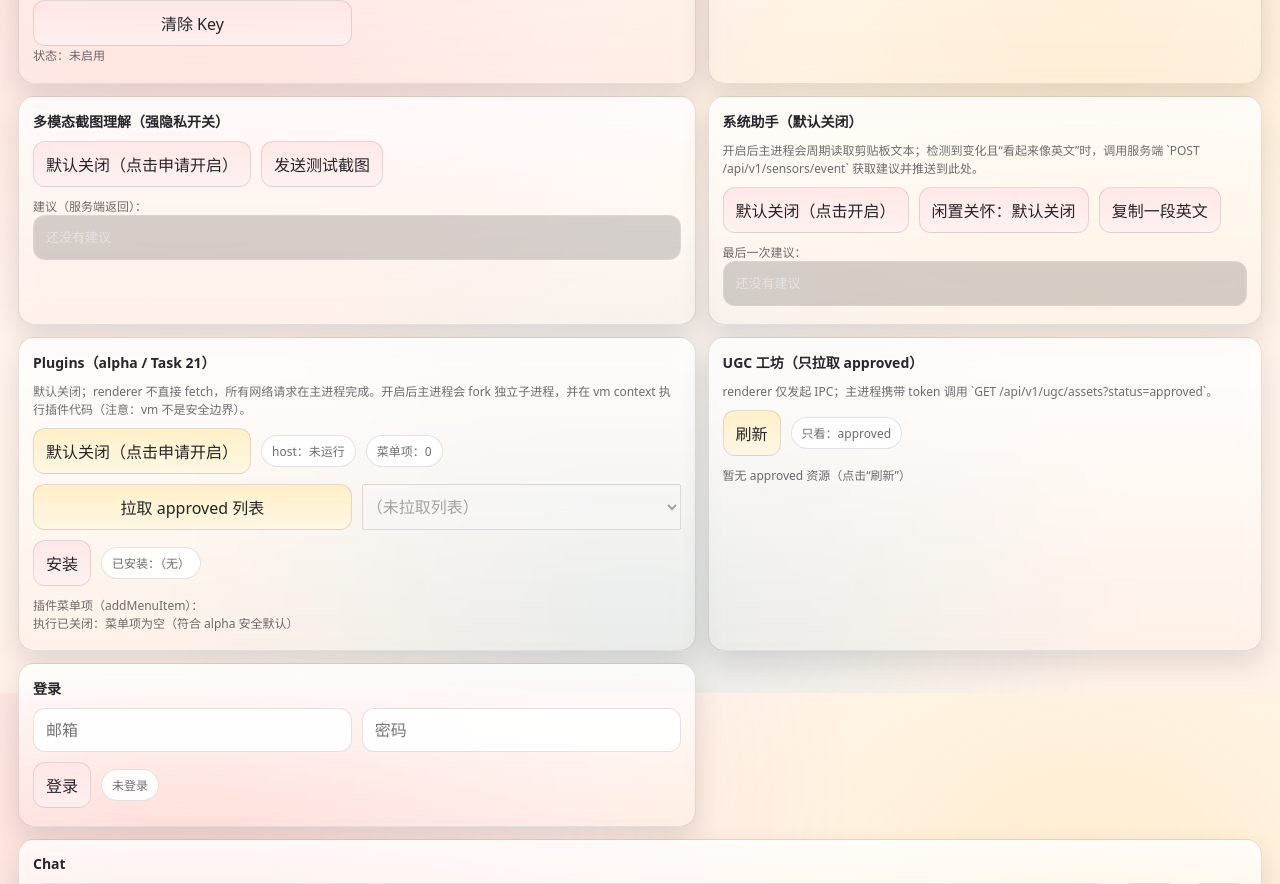
Test: Plugins consent › requires explicit consent before enabling plugin execution
(page scrolled)
Click the button with test id "plugins-toggle".
click(142, 451)  # box x1=33 y1=428 x2=251 y2=474
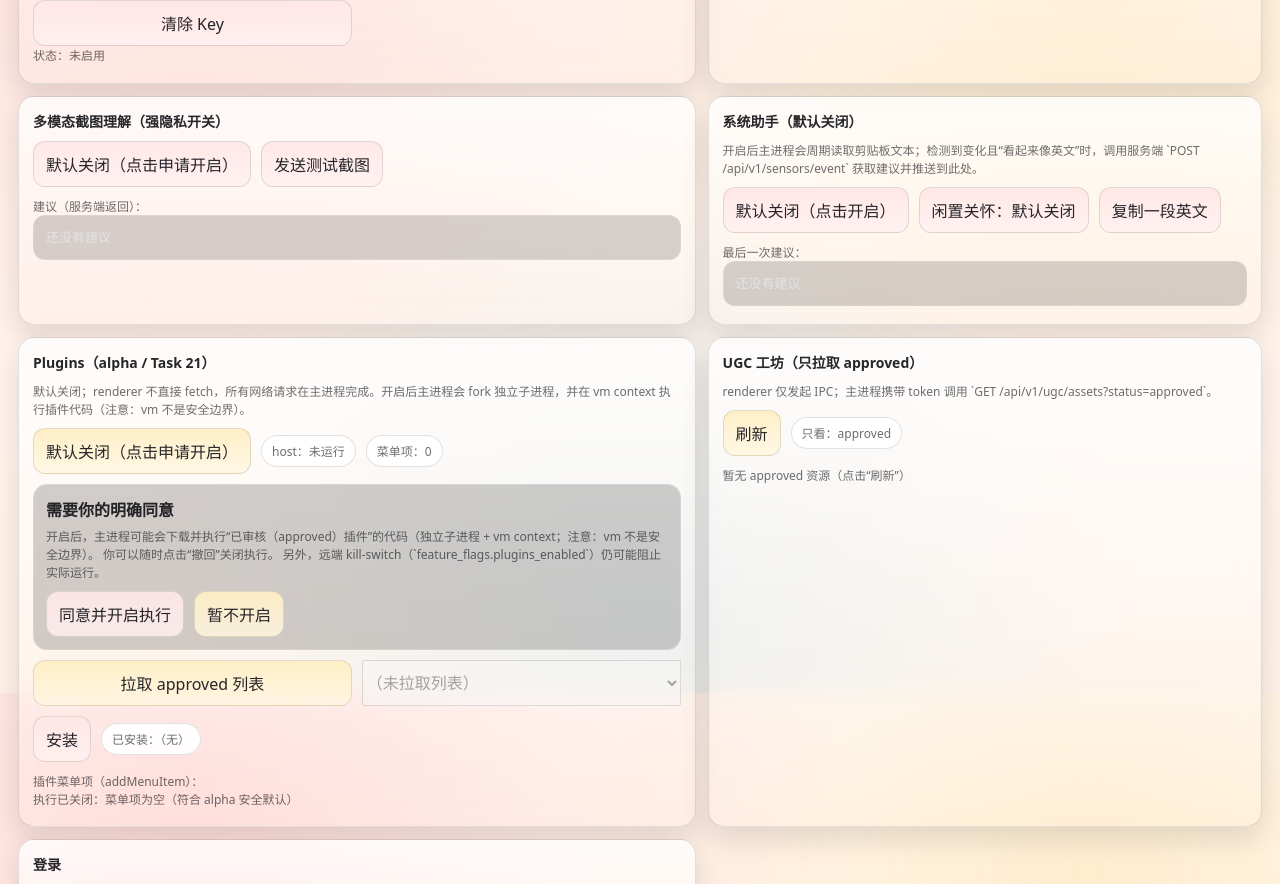
Expected: the element with test id "plugins-consent-panel" is shown, x1=33 y1=484 x2=681 y2=650
Click the button with test id "plugins-consent-decline".
click(239, 614)  # box x1=194 y1=591 x2=284 y2=637
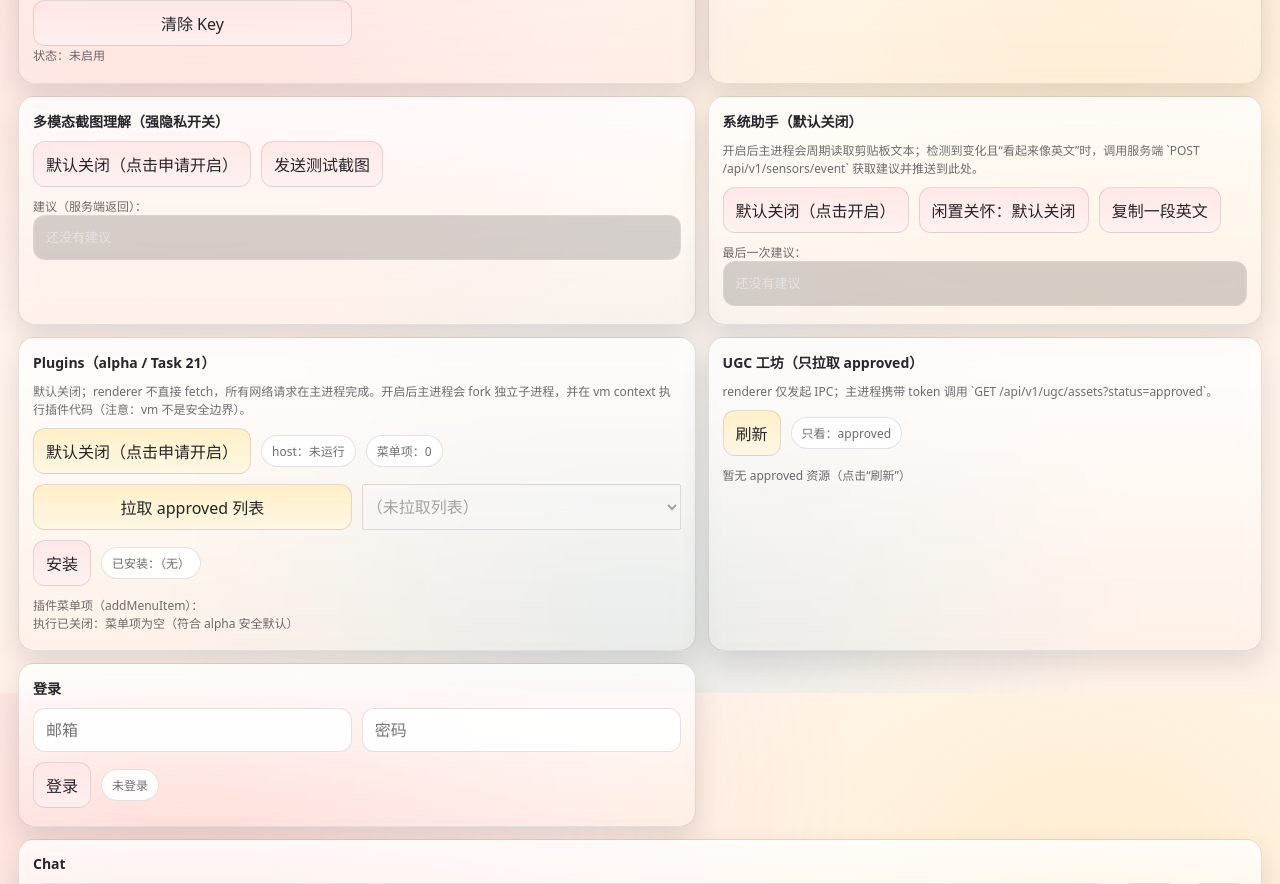
Expected: the element with test id "plugins-consent-panel" is gone
Click the button with test id "plugins-toggle".
click(142, 451)  # box x1=33 y1=428 x2=251 y2=474
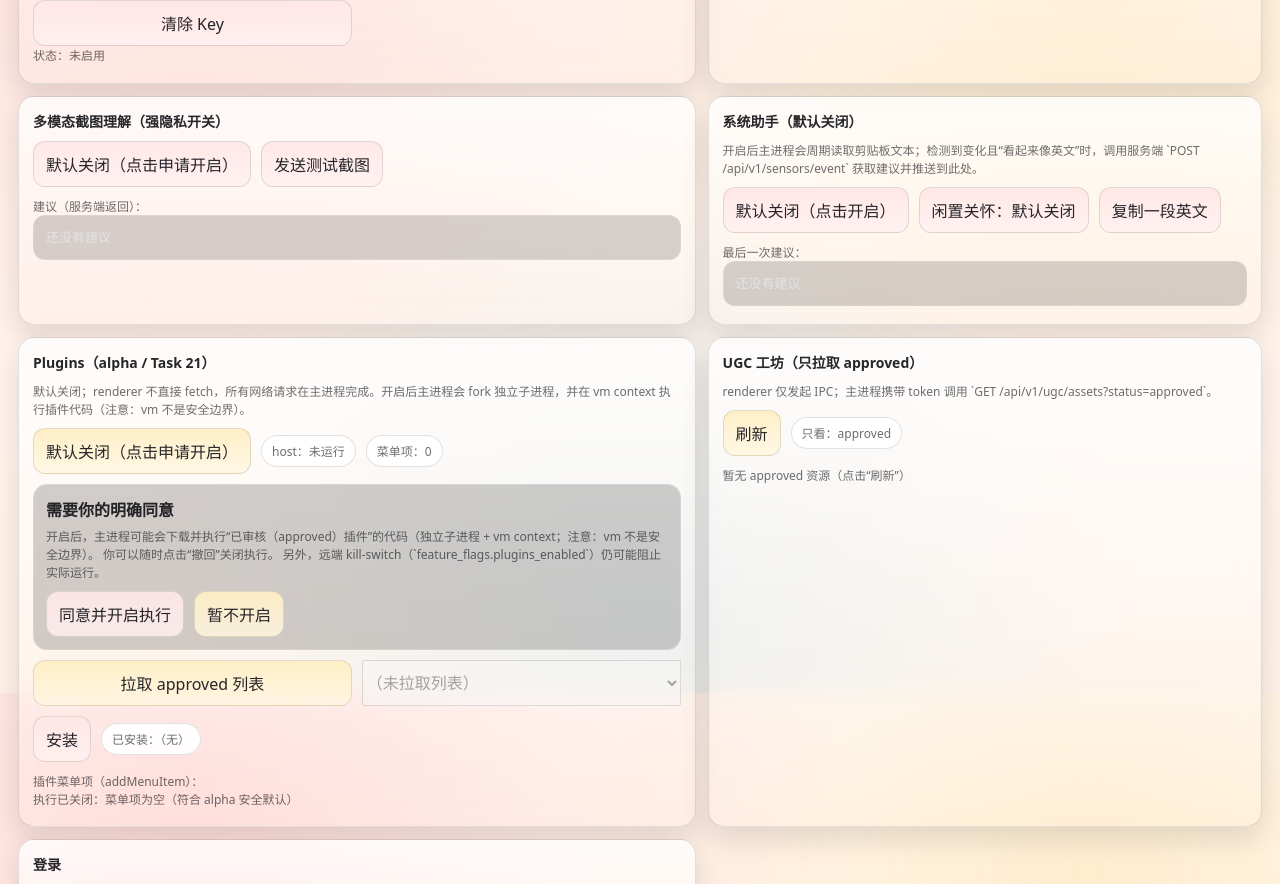
Expected: the element with test id "plugins-consent-panel" is shown, x1=33 y1=484 x2=681 y2=650
Click the button with test id "plugins-consent-accept".
click(115, 614)  # box x1=46 y1=591 x2=184 y2=637
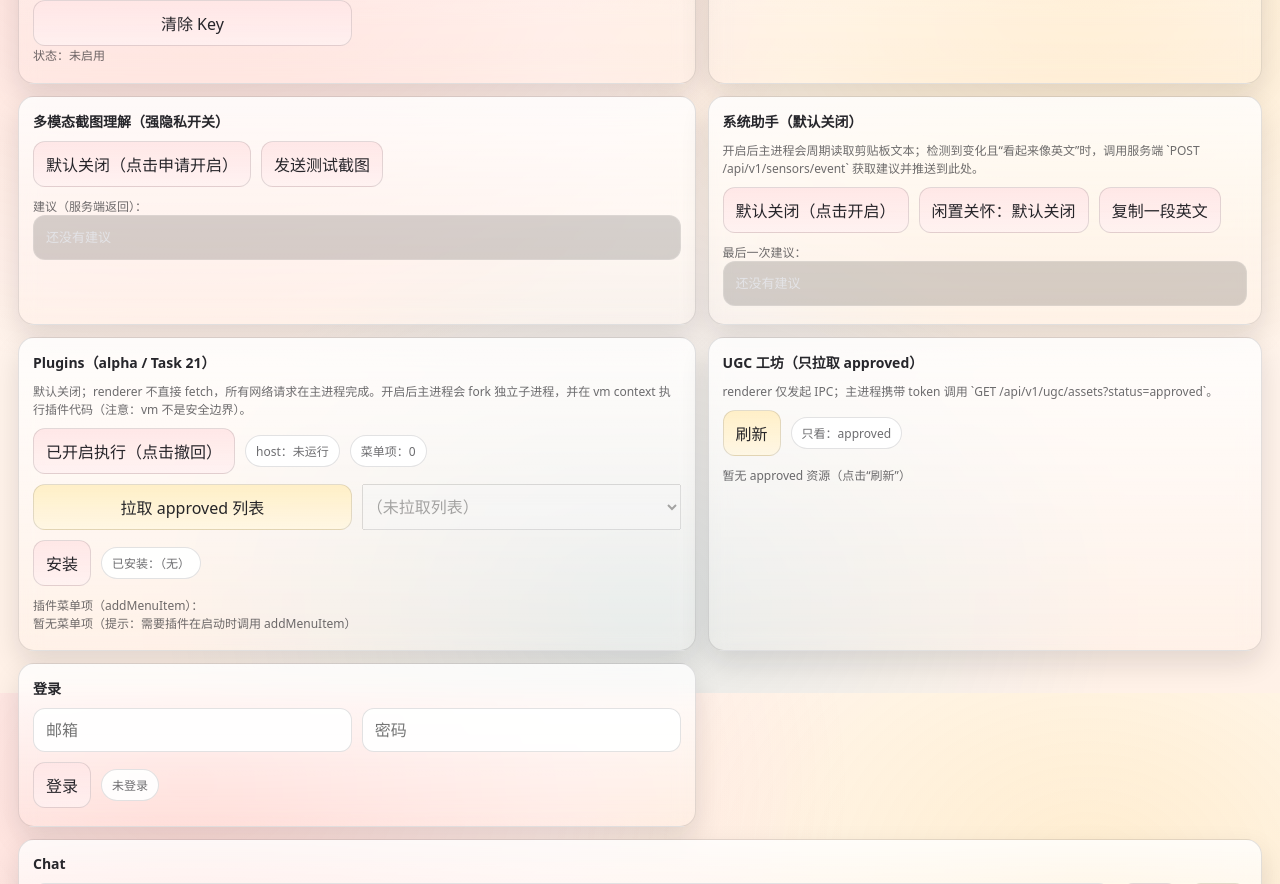
Expected: the element with test id "plugins-consent-panel" is gone
Expected: the button with test id "plugins-toggle" shows "已开启执行", x1=33 y1=428 x2=235 y2=474
